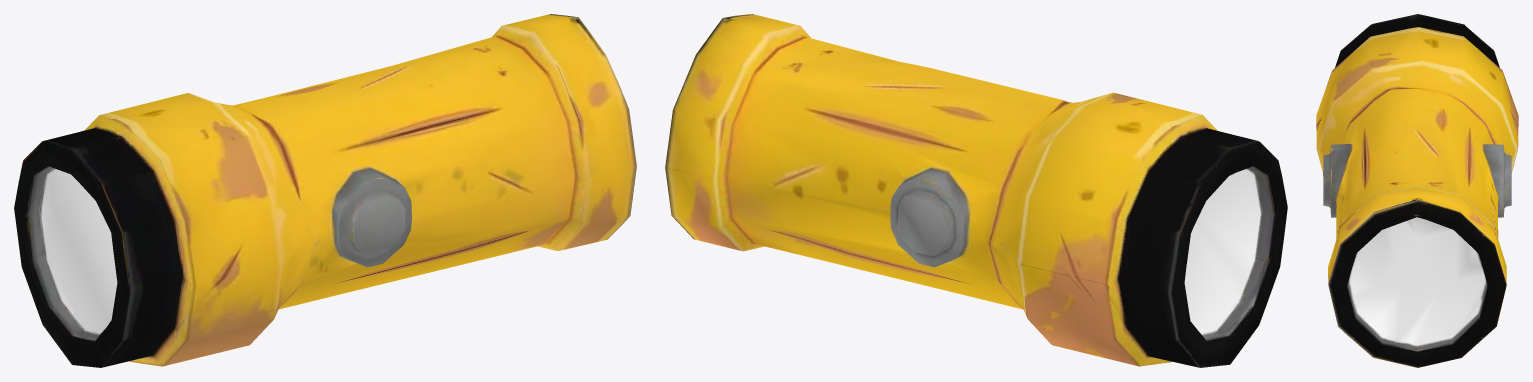
Rendered from flashlight.glb.
3 views of the same model, side by side, from view 1: azimuth 30°, elevation 25°; view 2: azimuth 150°, elevation 25°; view 3: azimuth 270°, elevation 25° (orthographic). The views are drawn at different scales.
Visible parts, largest first — view 1: Mesh1.0; view 2: Mesh1.0; view 3: Mesh1.0.
Boxes of the visible parts, x1,y1,x2,y2 form: Mesh1.0: (14, 14, 636, 367); Mesh1.0: (665, 14, 1287, 367); Mesh1.0: (1316, 14, 1518, 367).
Bounding box in the file's own units: 1.91 × 0.8443 × 0.8389.
1 material, 1 textured.
